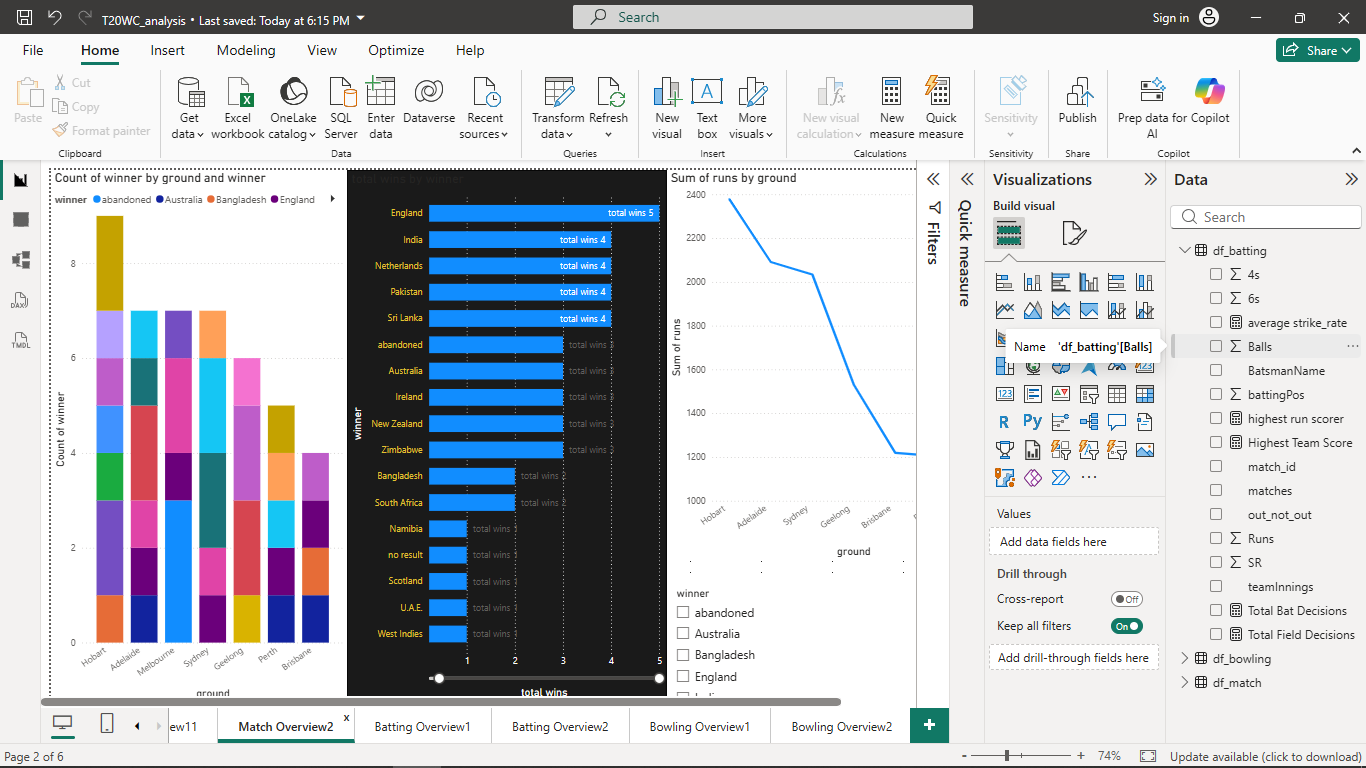

The page's visual inventory and layout, read from the dashboard file:
{"tool":"powerbi","page":{"name":"Match Overview2","canvas":[1280,720],"ordinal":1},"visuals":[{"type":"columnChart","fields":{"Category":["df_match.ground"],"Series":["df_match.winner"],"Y":["CountNonNull(df_match.winner)"]},"box":[0,0,400,720],"z":0},{"type":"slicer","fields":{"Values":["df_match.winner"]},"box":[832,560,448,160],"z":1000},{"type":"clusteredBarChart","fields":{"Category":["df_match.winner"],"Y":["df_match.total wins"]},"box":[400,0,432,720],"z":2000},{"type":"lineChart","fields":{"Y":["Sum(df_bowling.runs)"],"Category":["df_match.ground"]},"box":[832,0,448,528],"z":3000}]}

Visuals, with their boxes on the page's 1280x720 design canvas (x1, y1, x2, y2). These are canvas units, not pixel positions in the 1366x768 screenshot, which may show the page scaled, cropped or inside an application window:
columnChart - df_match.ground x df_match.winner: bbox=(0, 0, 400, 720)
slicer - df_match.winner: bbox=(832, 560, 1280, 720)
clusteredBarChart - df_match.winner x df_match.total wins: bbox=(400, 0, 832, 720)
lineChart - Sum(df_bowling.runs) x df_match.ground: bbox=(832, 0, 1280, 528)
